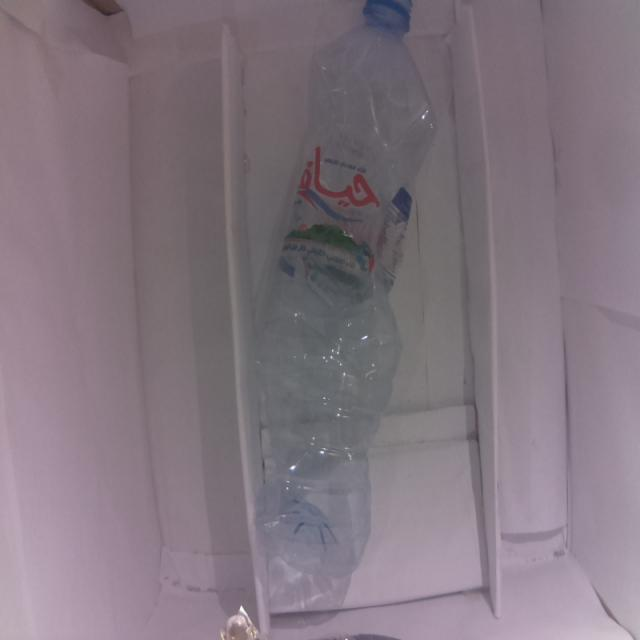blue: (252, 1, 438, 576)
